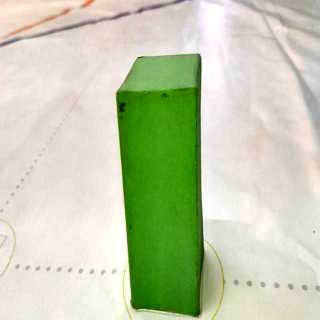greenbox: (115, 52, 207, 316)
